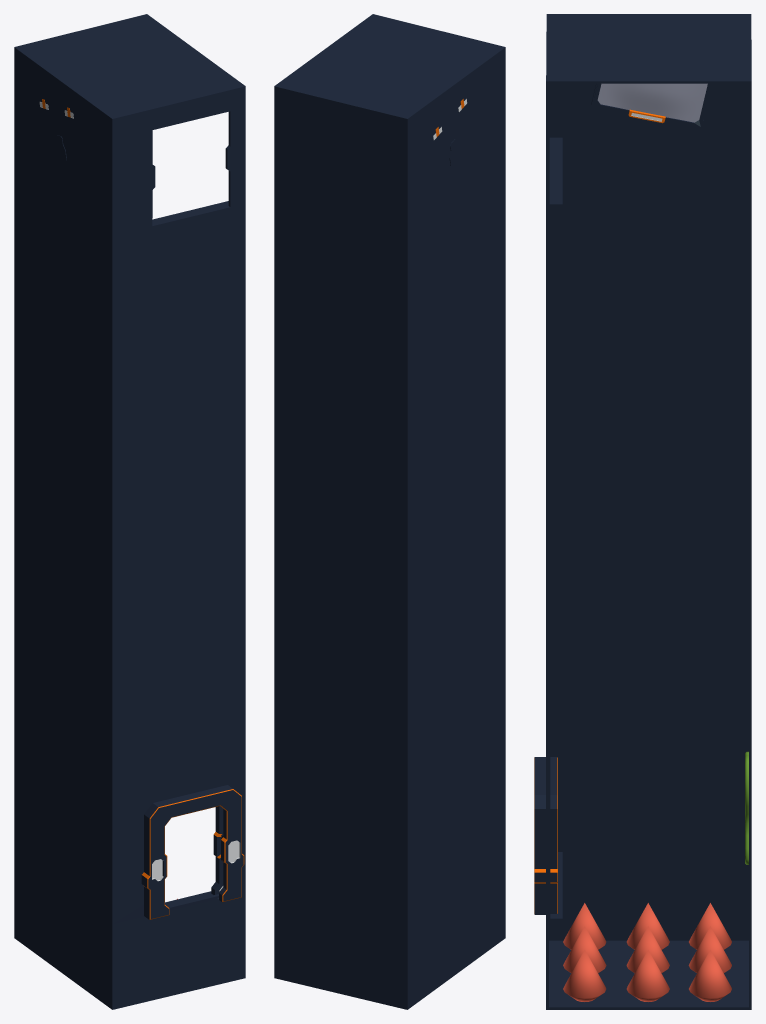
File: Room_14.fbx
3 renders of one model, left to right at view 1: azimuth 30°, elevation 25°; view 2: azimuth 150°, elevation 25°; view 3: azimuth 270°, elevation 25°, orthographic. The views are drawn at different scales.
Parts seen in each view (by area): view 1: Cube.170, Cube.116; view 2: Cube.170; view 3: Cube.170, Cube.161, Cube.116, Cone.020, Cone.021, Cone.022, Cone.016, Cone.005, Cone.018, Cone.015, Cone.017, Cone.019.
Part boxes in pixels (box(x1,y1,x2,y2)): Cube.170: box(14, 14, 245, 1009); Cube.116: box(141, 785, 244, 919); Cube.170: box(274, 14, 505, 1009); Cube.170: box(546, 14, 751, 1009); Cube.161: box(591, 83, 712, 128); Cube.116: box(534, 757, 557, 914); Cone.020: box(626, 950, 669, 1001); Cone.021: box(563, 950, 606, 1001); Cone.022: box(689, 950, 731, 1001); Cone.016: box(688, 926, 731, 972); Cone.005: box(626, 926, 669, 973); Cone.018: box(563, 903, 606, 949); Cone.015: box(563, 926, 606, 973); Cone.017: box(626, 903, 669, 949); Cone.019: box(689, 903, 731, 949).
Size of the model in its own units: 204 by 1299 by 276.
Materials: 6 (5 with a texture image).
